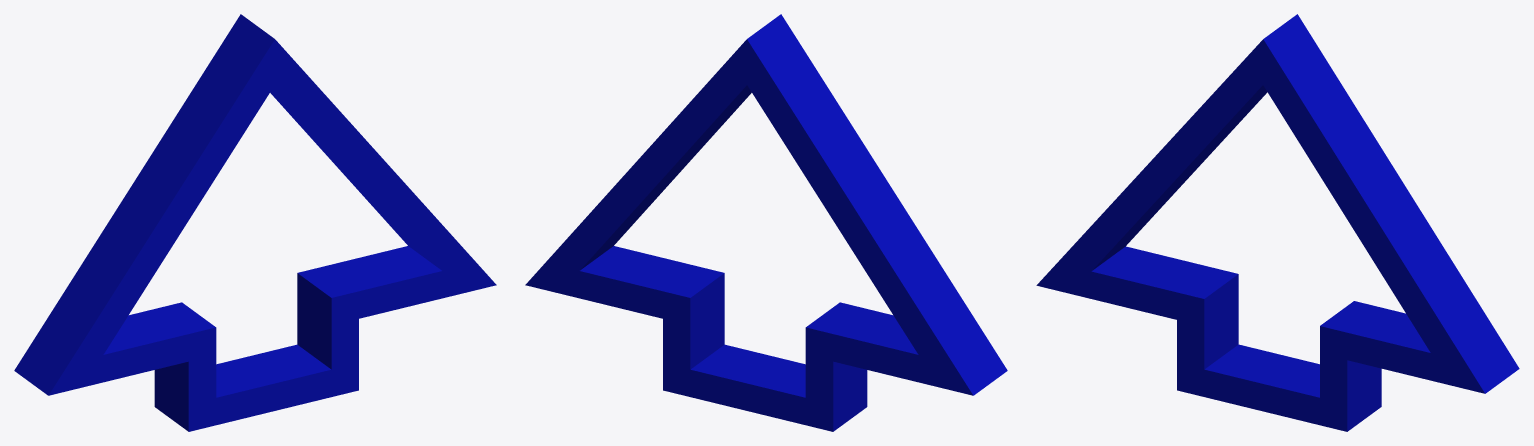
The model's file is Joystick_element_1.FBX.
3 renders of one model, left to right at view 1: azimuth 30°, elevation 25°; view 2: azimuth 150°, elevation 25°; view 3: azimuth 330°, elevation 25°, orthographic.
Visible parts, largest first — view 1: Joystick_element_1; view 2: Joystick_element_1; view 3: Joystick_element_1.
Boxes of the visible parts, left/top/right/bottom form: Joystick_element_1: left=14, top=14, right=496, bottom=431; Joystick_element_1: left=525, top=14, right=1007, bottom=431; Joystick_element_1: left=1036, top=14, right=1519, bottom=431.
Bounding box in the file's own units: 22.66 × 17.96 × 3.
